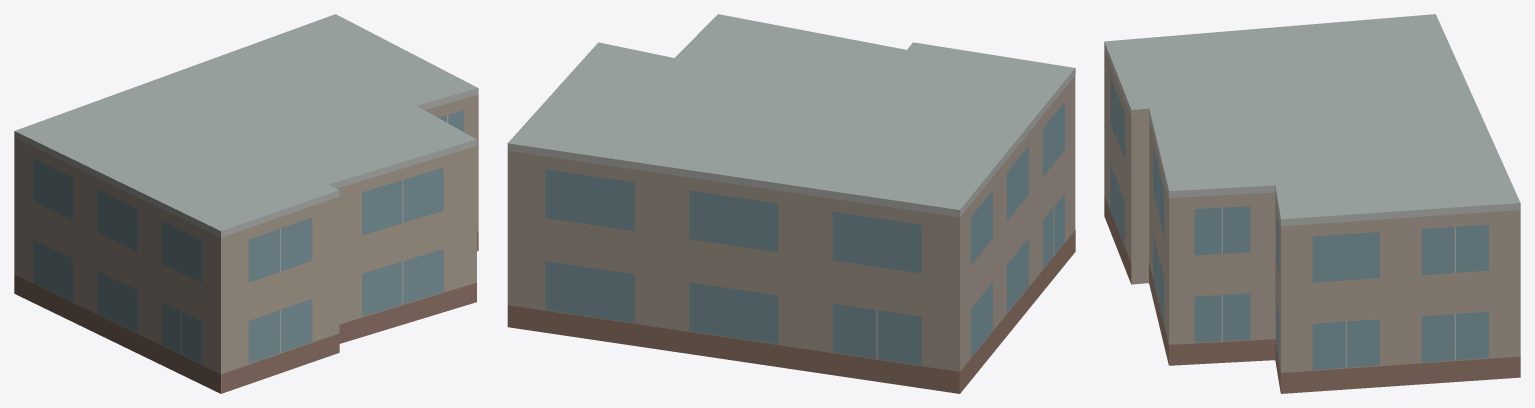
File: survey-upis-32724622.glb
3 renders of one model, left to right at view 1: azimuth 30°, elevation 25°; view 2: azimuth 150°, elevation 25°; view 3: azimuth 270°, elevation 25°, orthographic. The views are drawn at different scales.
Visible parts, largest first — view 1: survey-upis-32724622.tmp; view 2: survey-upis-32724622.tmp; view 3: survey-upis-32724622.tmp.
Boxes of the visible parts, x1,y1,x2,y2 form: survey-upis-32724622.tmp: (14, 14, 478, 393); survey-upis-32724622.tmp: (507, 14, 1075, 393); survey-upis-32724622.tmp: (1104, 14, 1520, 393).
Bounding box in the file's own units: 15.4 × 6.1 × 13.2.
